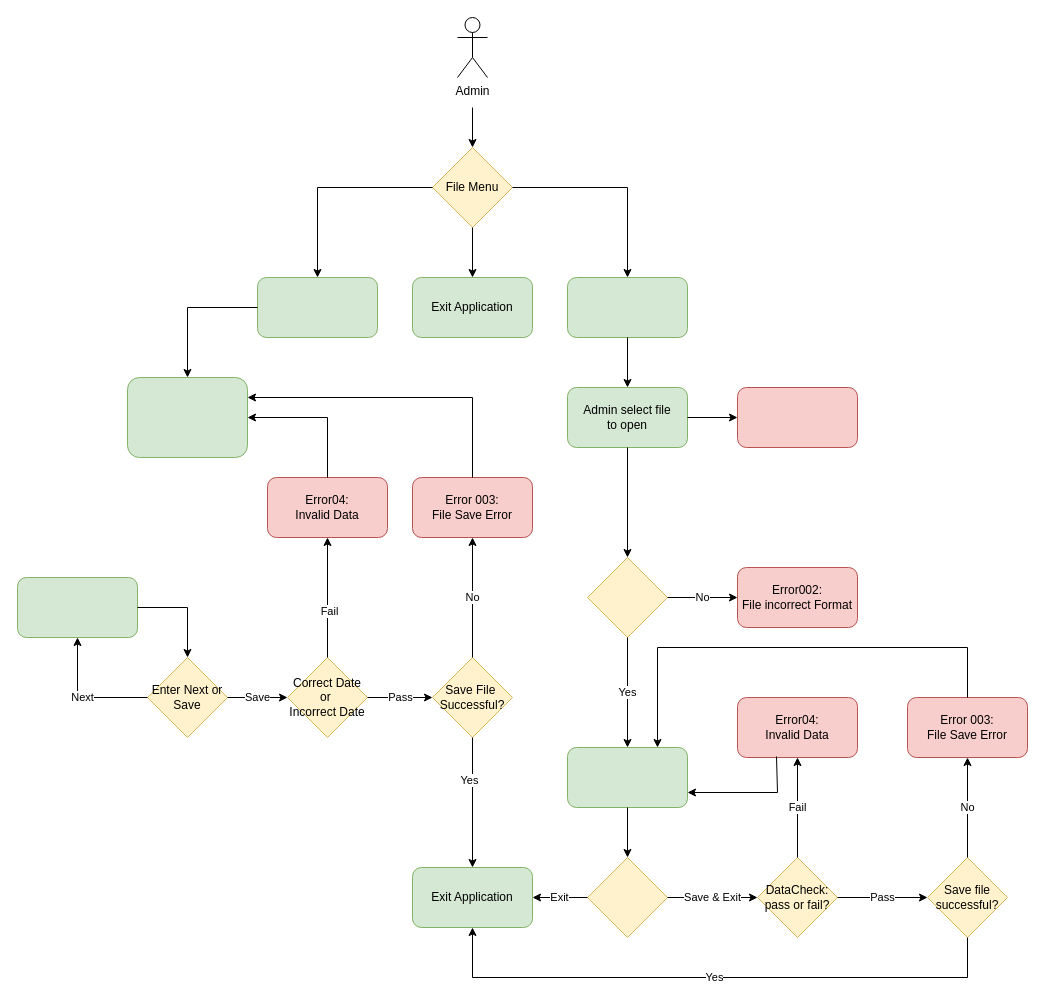
Image size: 1045x1003. Some labels were removed from this diagram. Each missing label, with the centre of its shape:
Click "Exit" or Save & Exit: pixel 627 897
Create File: pixel 317 307
Error001: File open Error: pixel 797 417
File Course Information is Displayed Allowing Bookings To Be. Entered: pixel 627 777
Is the file in the correct format?: pixel 627 597
Key in: Course Name Course Date Course Price Seat Bookings: pixel 187 417
Open File: pixel 627 307
Select Next Course: pixel 77 607
